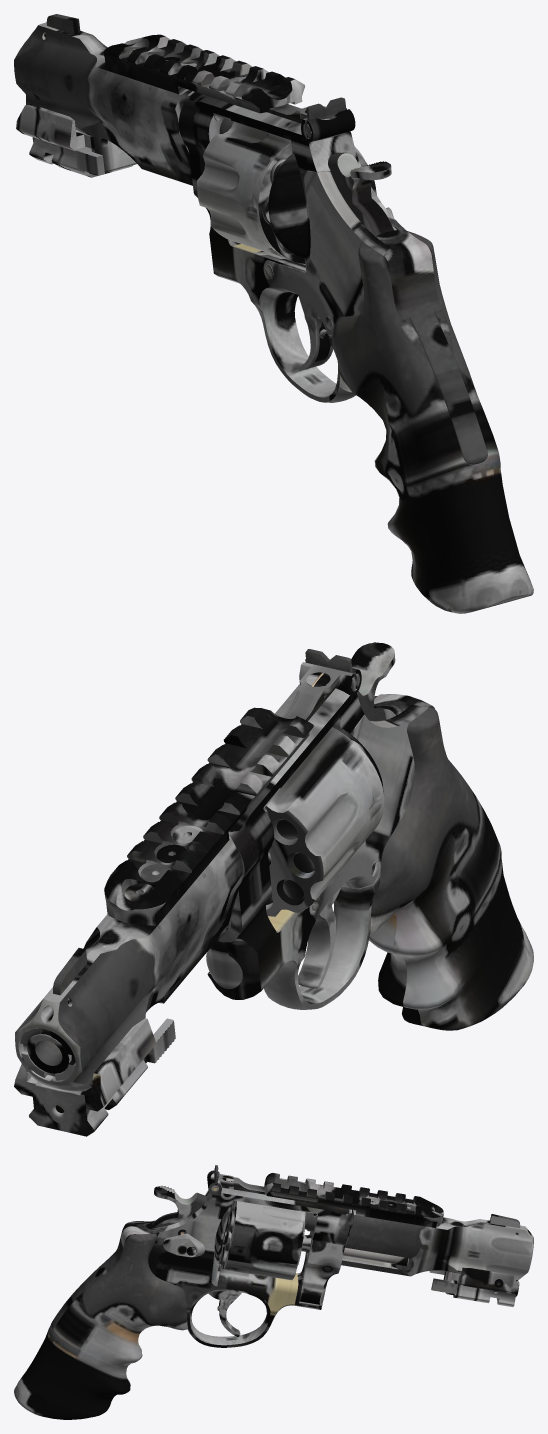
Rendered from p_revolver.glb.
3 renders of one model, top to bottom at view 1: azimuth 30°, elevation 25°; view 2: azimuth 150°, elevation 25°; view 3: azimuth 270°, elevation 25°, orthographic. The views are drawn at different scales.
Visible parts, largest first — view 1: p_revolver; view 2: p_revolver; view 3: p_revolver.
Part boxes in pixels (x1,y1,x2,y2): p_revolver: (14,14,533,613); p_revolver: (14,642,533,1136); p_revolver: (14,1165,533,1419).
Bounding box in the file's own units: 0.0697 × 0.2252 × 0.4454.
Materials: 1 (1 with a texture image).
